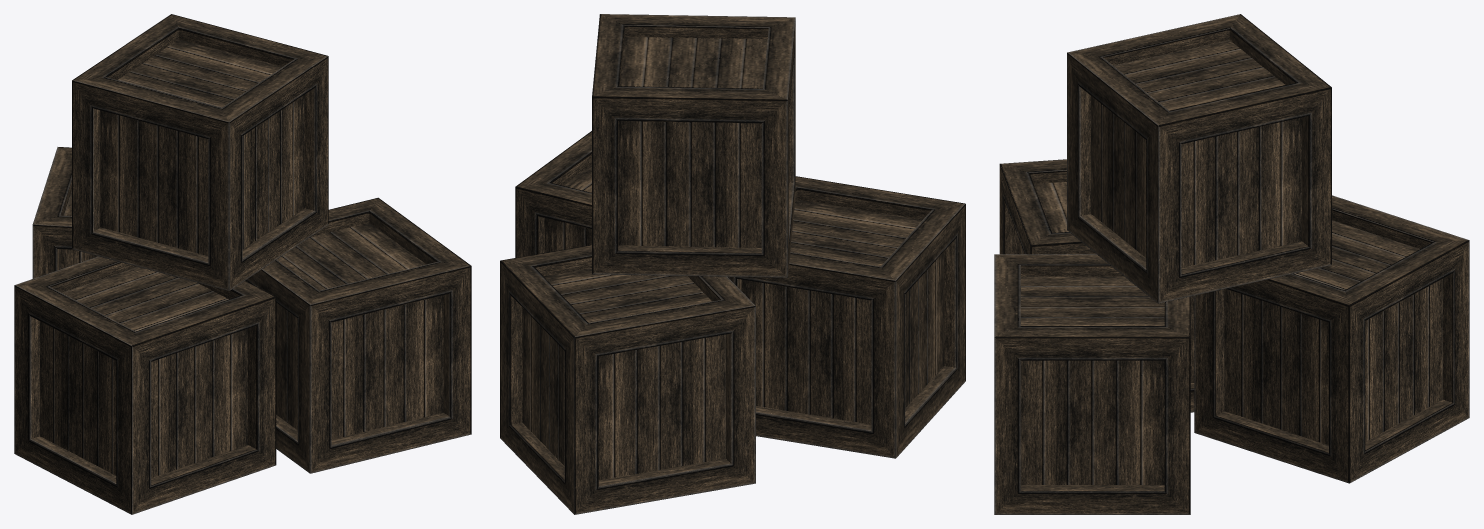
File: wood_box_pile.fbx
3 renders of one model, left to right at view 1: azimuth 30°, elevation 25°; view 2: azimuth 150°, elevation 25°; view 3: azimuth 270°, elevation 25°, orthographic. The views are drawn at different scales.
Parts seen in each view (by area): view 1: wood_box_pile; view 2: wood_box_pile; view 3: wood_box_pile.
Part boxes in pixels (left/top/right/bottom): wood_box_pile: left=14, top=14, right=471, bottom=514; wood_box_pile: left=500, top=14, right=965, bottom=514; wood_box_pile: left=994, top=14, right=1469, bottom=514.
Size of the model in its own units: 225 by 200 by 242.
Materials: 1 (1 with a texture image).
